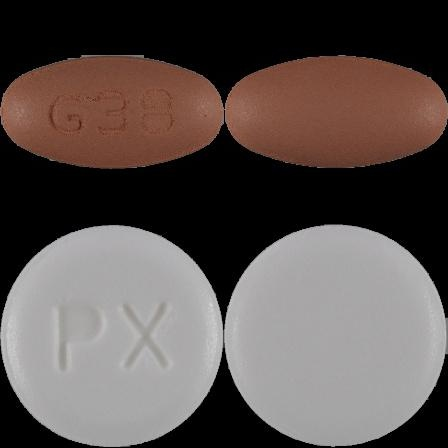68462-329: (0, 0, 224, 224)
